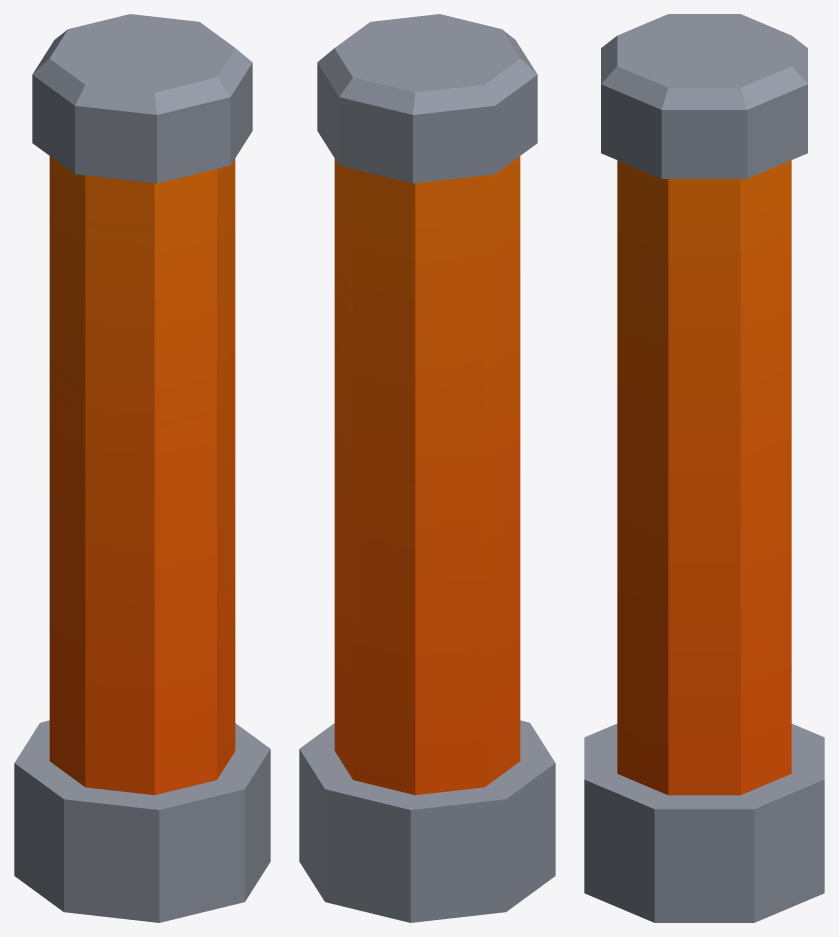
Rendered from SM_Props_Laboratory_11.fbx.
The picture shows the model from 3 angles, left to right: view 1: azimuth 30°, elevation 25°; view 2: azimuth 150°, elevation 25°; view 3: azimuth 270°, elevation 25°; orthographic projection.
Parts seen in each view (by area): view 1: SM_Props_Laboratory_11; view 2: SM_Props_Laboratory_11; view 3: SM_Props_Laboratory_11.
Part boxes in pixels (x1,y1,x2,y2): SM_Props_Laboratory_11: (14, 14, 270, 922); SM_Props_Laboratory_11: (299, 14, 555, 922); SM_Props_Laboratory_11: (584, 14, 824, 922).
Bounding box in the file's own units: 0.0383 × 0.1443 × 0.0383.
